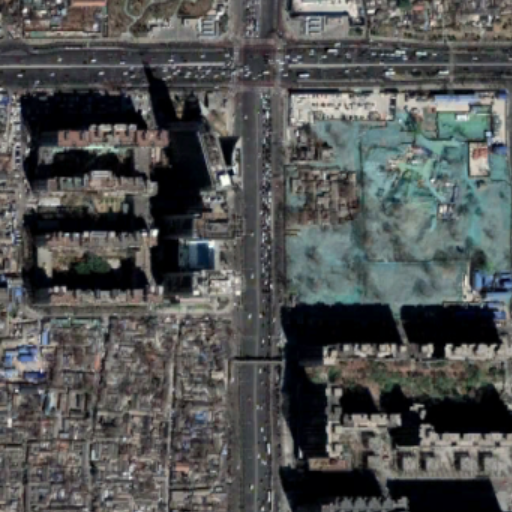cw: (287, 105, 512, 303)
